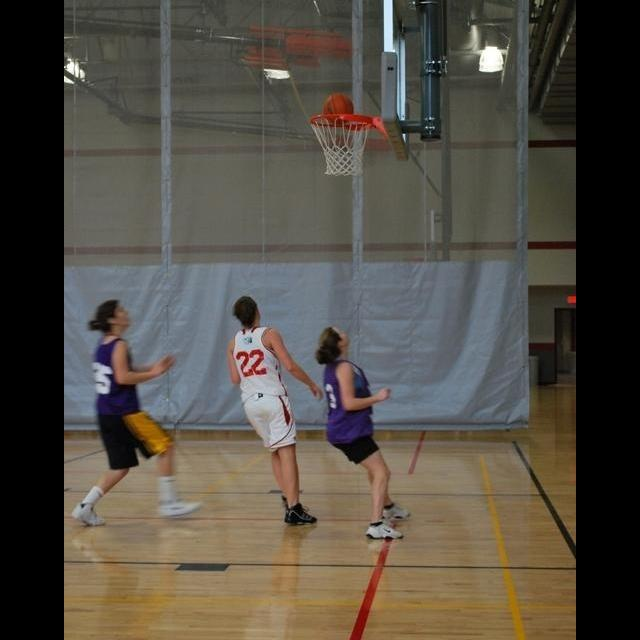basketball: (325, 95, 354, 124)
hoop: (310, 114, 372, 177)
